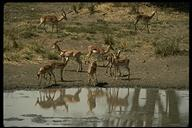antelope: (49, 37, 85, 74), (36, 8, 69, 34), (132, 8, 159, 35), (85, 41, 114, 66), (105, 52, 132, 78), (49, 53, 71, 83), (36, 64, 57, 87), (85, 60, 100, 88)
bush: (150, 37, 189, 60)
water: (5, 91, 188, 124)
